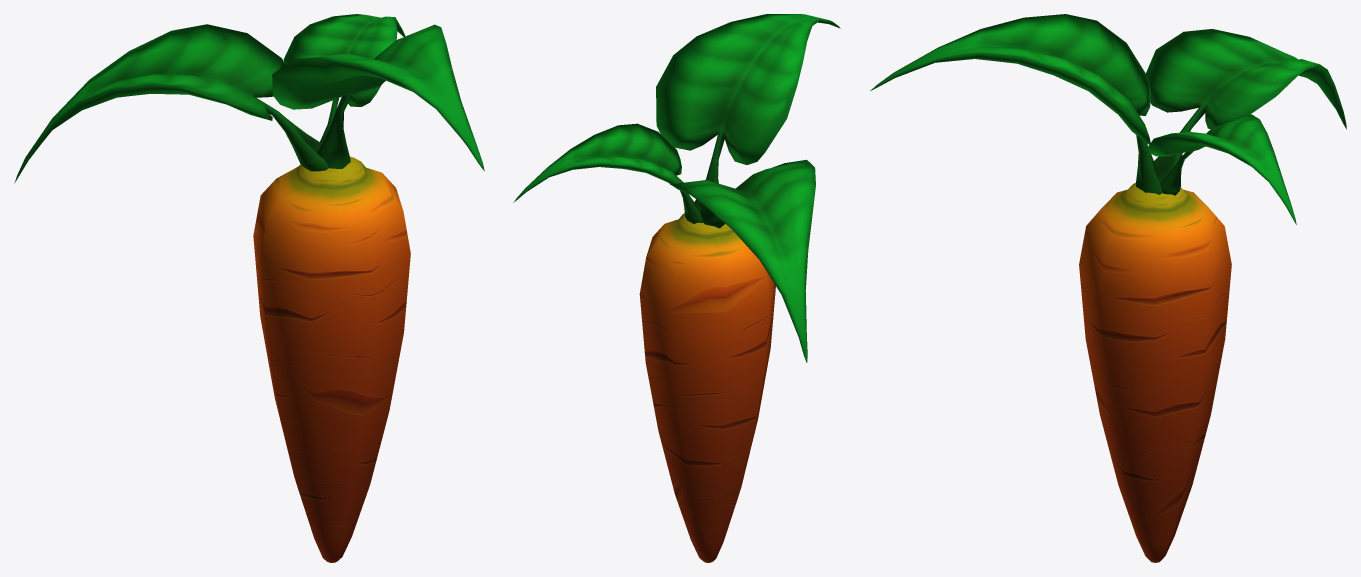
Rendered from Carrot_1.fbx.
3 views of the same model, side by side, from view 1: azimuth 30°, elevation 25°; view 2: azimuth 150°, elevation 25°; view 3: azimuth 270°, elevation 25° (orthographic). The views are drawn at different scales.
Parts seen in each view (by area): view 1: Carrot_1; view 2: Carrot_1; view 3: Carrot_1.
Boxes of the visible parts, <box> form: Carrot_1: <box>14,14,484,562</box>; Carrot_1: <box>513,14,840,562</box>; Carrot_1: <box>870,14,1346,562</box>.
Size of the model in its own units: 20.8 by 30.51 by 25.15.
Materials: 1 (1 with a texture image).
